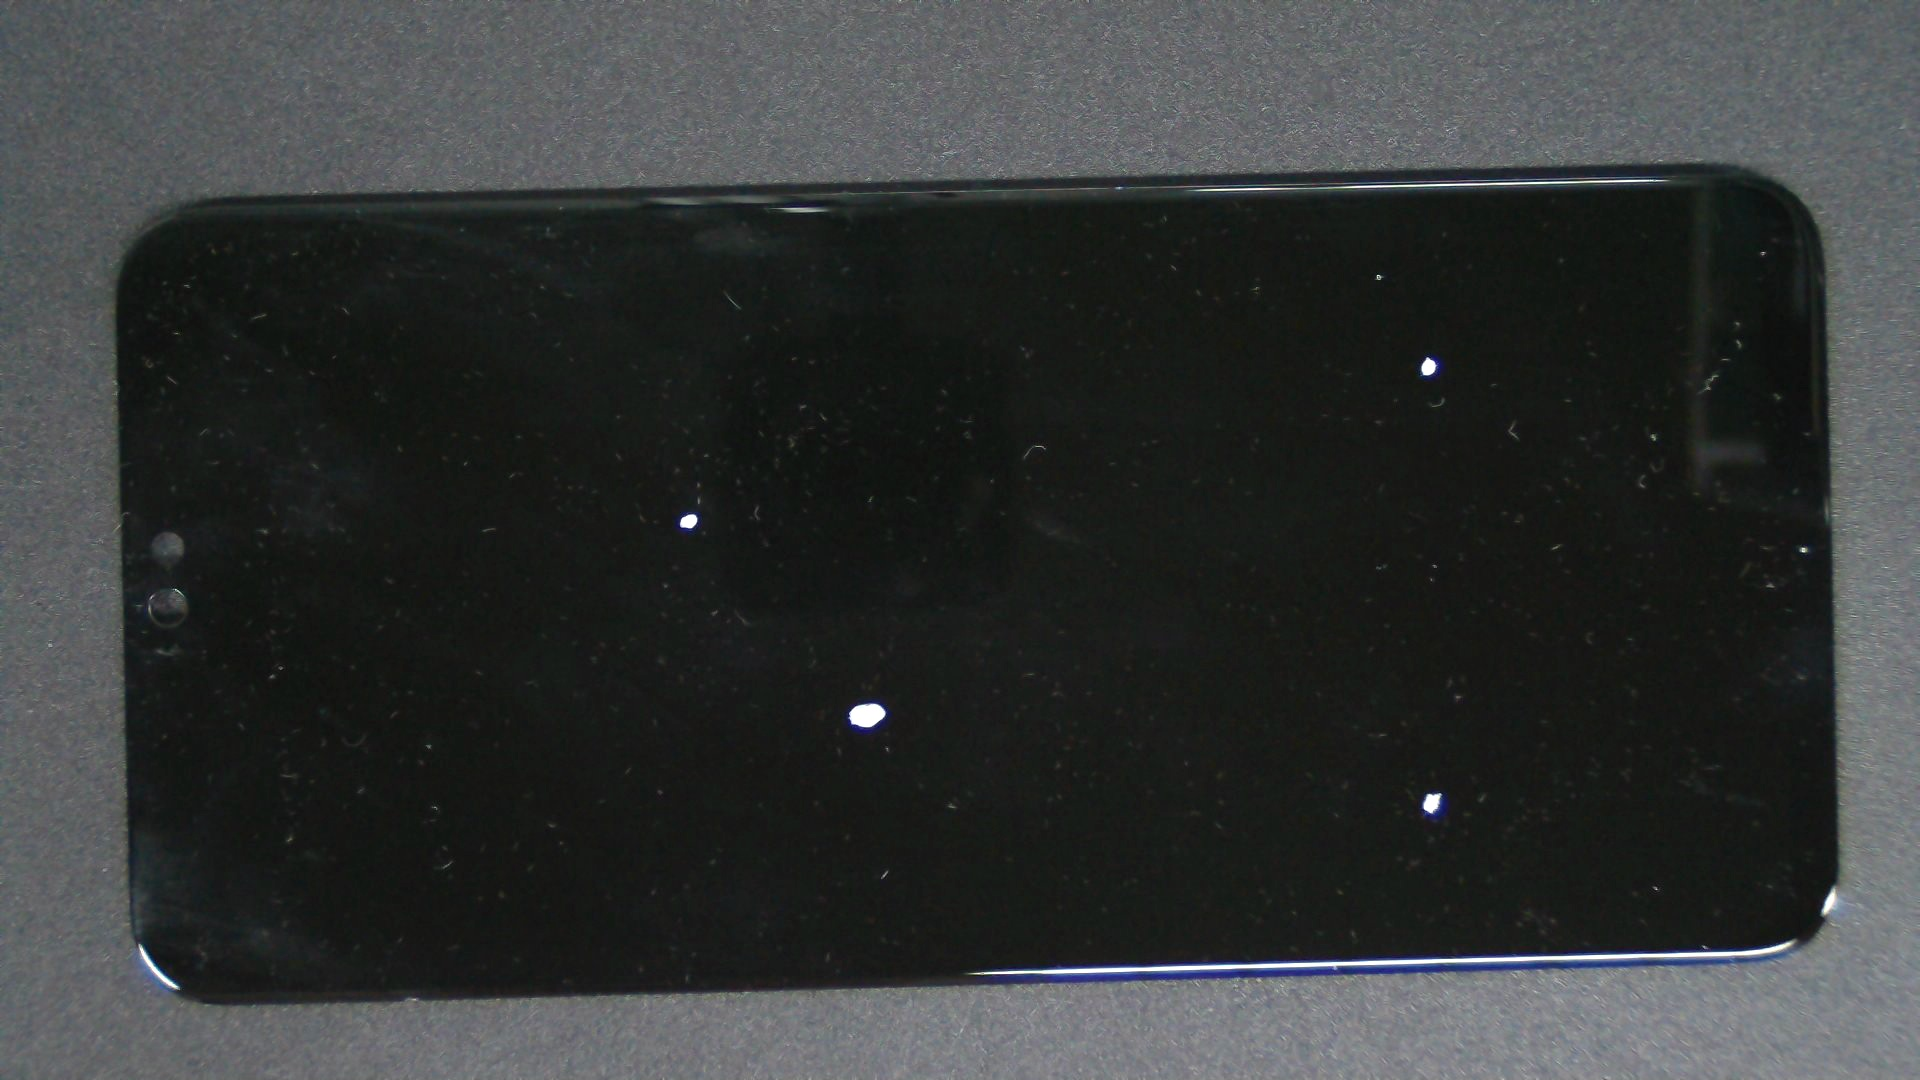oil: (716, 396, 1920, 1080), (435, 351, 1304, 1054), (713, 178, 1920, 534), (347, 256, 1038, 769)
